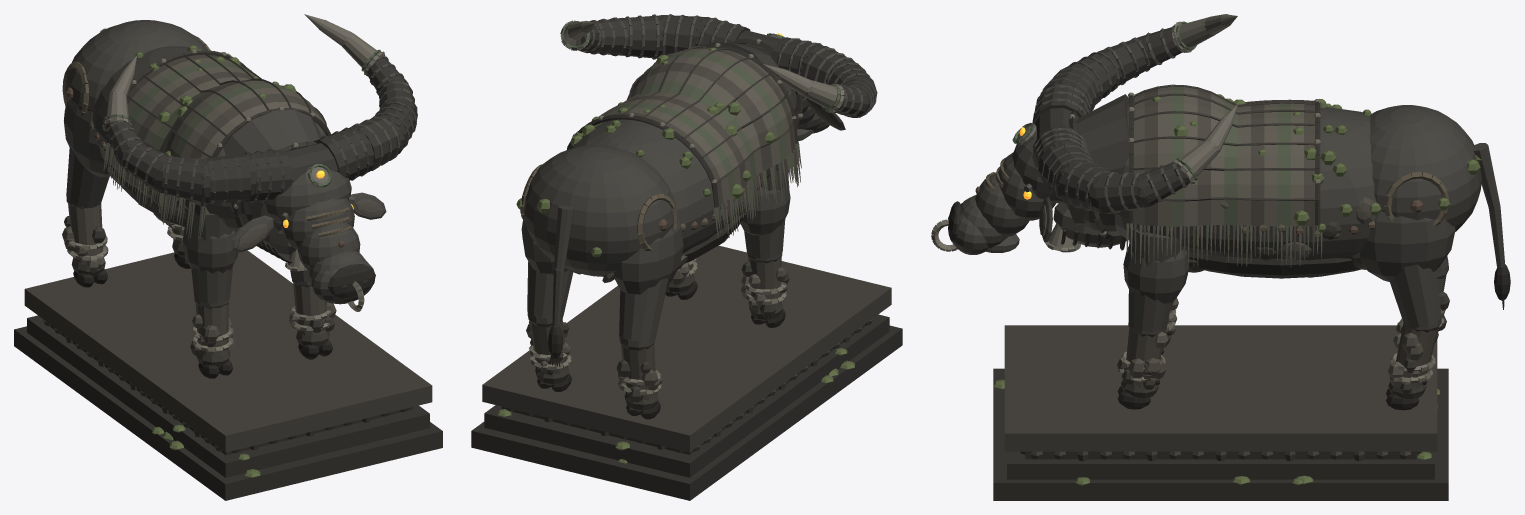
Rendered from idol_mahishra.glb.
3 renders of one model, left to right at view 1: azimuth 30°, elevation 25°; view 2: azimuth 150°, elevation 25°; view 3: azimuth 270°, elevation 25°, orthographic. The views are drawn at different scales.
Parts seen in each view (by area): view 1: idol_mahishra, idol_mahishra_plinth; view 2: idol_mahishra, idol_mahishra_plinth; view 3: idol_mahishra, idol_mahishra_plinth.
Part boxes in pixels (x1,y1,x2,y2): idol_mahishra: (62, 14, 417, 378); idol_mahishra_plinth: (14, 250, 442, 500); idol_mahishra: (516, 14, 877, 419); idol_mahishra_plinth: (471, 245, 902, 500); idol_mahishra: (931, 14, 1510, 410); idol_mahishra_plinth: (993, 325, 1448, 500).
Bounding box in the file's own units: 2.53 × 2.98 × 4.07.
